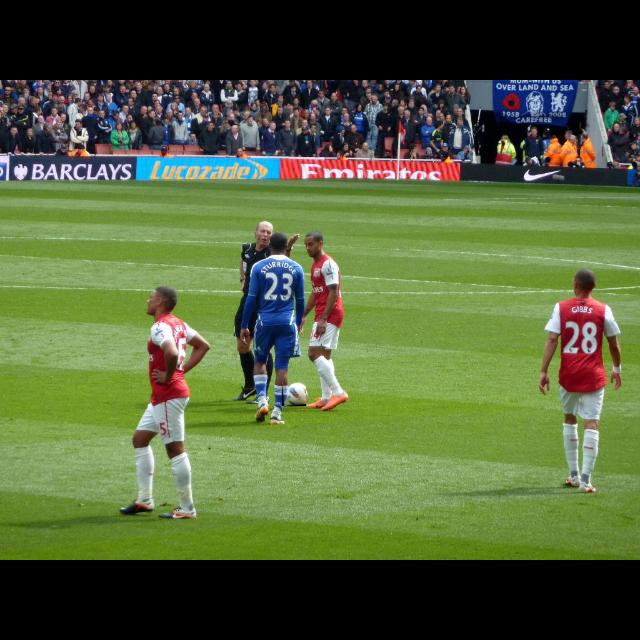Football: (282, 382, 306, 406)
